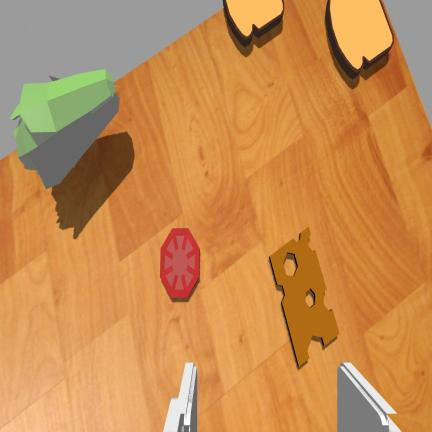cheese: (270, 227, 339, 365)
lettuce: (10, 69, 119, 188)
sliced_bread: (326, 0, 393, 77), (223, 0, 284, 45)
sliced_tomato: (160, 228, 199, 298)
